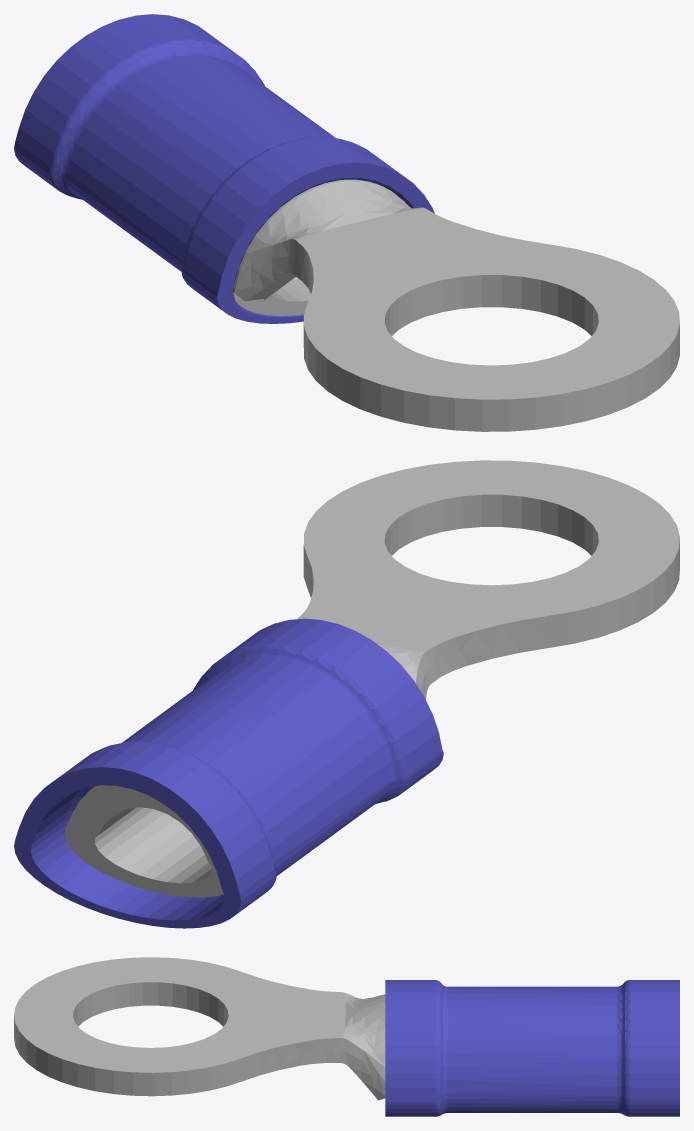
The model's file is ElektrikalHook.fbx.
3 renders of one model, top to bottom at view 1: azimuth 30°, elevation 25°; view 2: azimuth 150°, elevation 25°; view 3: azimuth 270°, elevation 25°, orthographic. The views are drawn at different scales.
Parts seen in each view (by area): view 1: Unnamed:Mesh; view 2: Unnamed:Mesh; view 3: Unnamed:Mesh.
Boxes of the visible parts, <box> form: Unnamed:Mesh: <box>14,14,679,431</box>; Unnamed:Mesh: <box>14,460,679,928</box>; Unnamed:Mesh: <box>14,957,679,1116</box>.
Size of the model in its own units: 8.61 by 3.79 by 20.95.
